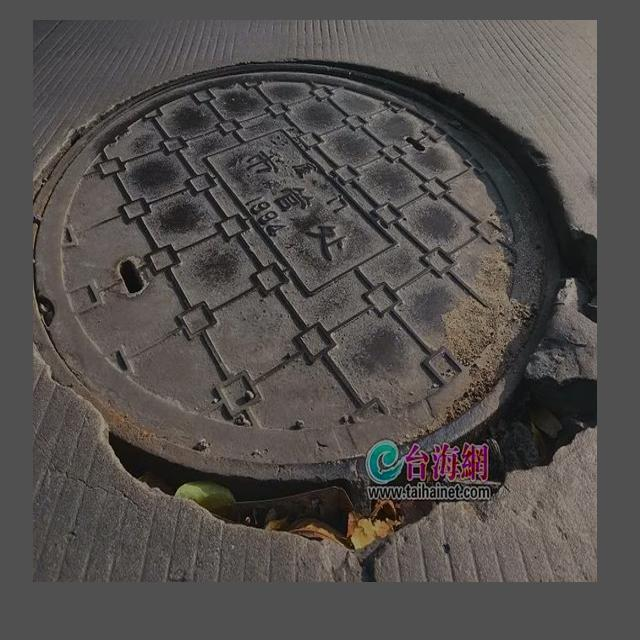circle: (46, 55, 585, 557)
